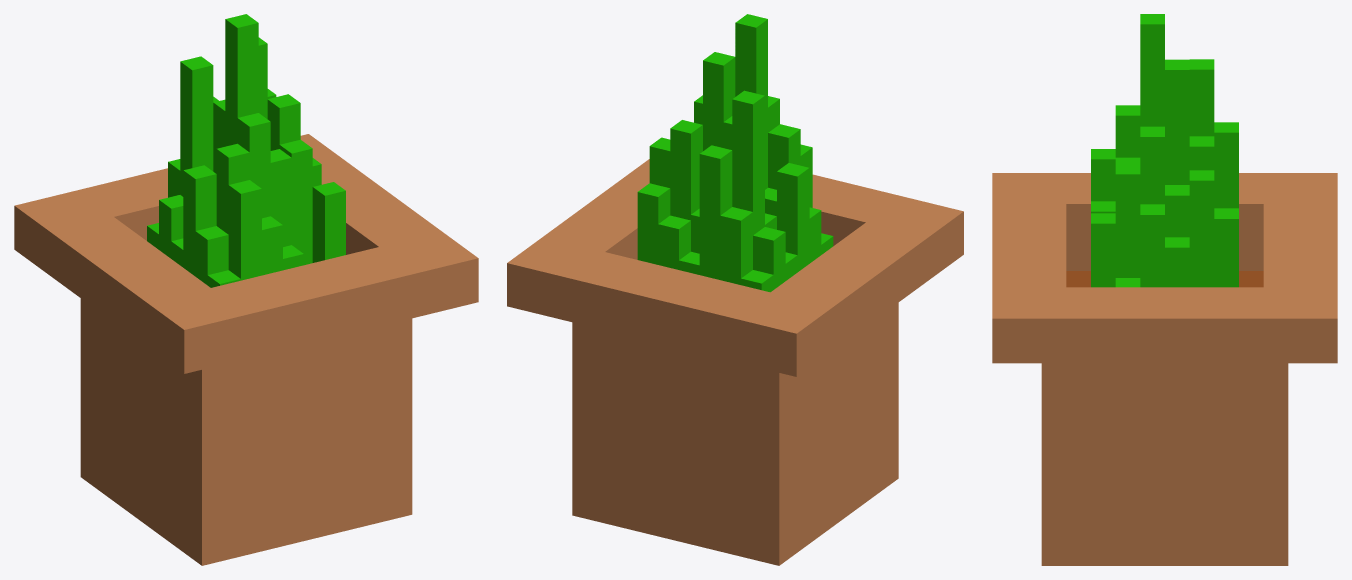
Rendered from Pot.obj.
3 renders of one model, left to right at view 1: azimuth 30°, elevation 25°; view 2: azimuth 150°, elevation 25°; view 3: azimuth 270°, elevation 25°, orthographic. The views are drawn at different scales.
Visible parts, largest first — view 1: Mesh1 Model; view 2: Mesh1 Model; view 3: Mesh1 Model.
Part boxes in pixels (bbox=[...]): Mesh1 Model: bbox=[14, 14, 478, 565]; Mesh1 Model: bbox=[507, 14, 963, 565]; Mesh1 Model: bbox=[992, 14, 1337, 565].
Bounding box in the file's own units: 1400 × 2191 × 1400.
